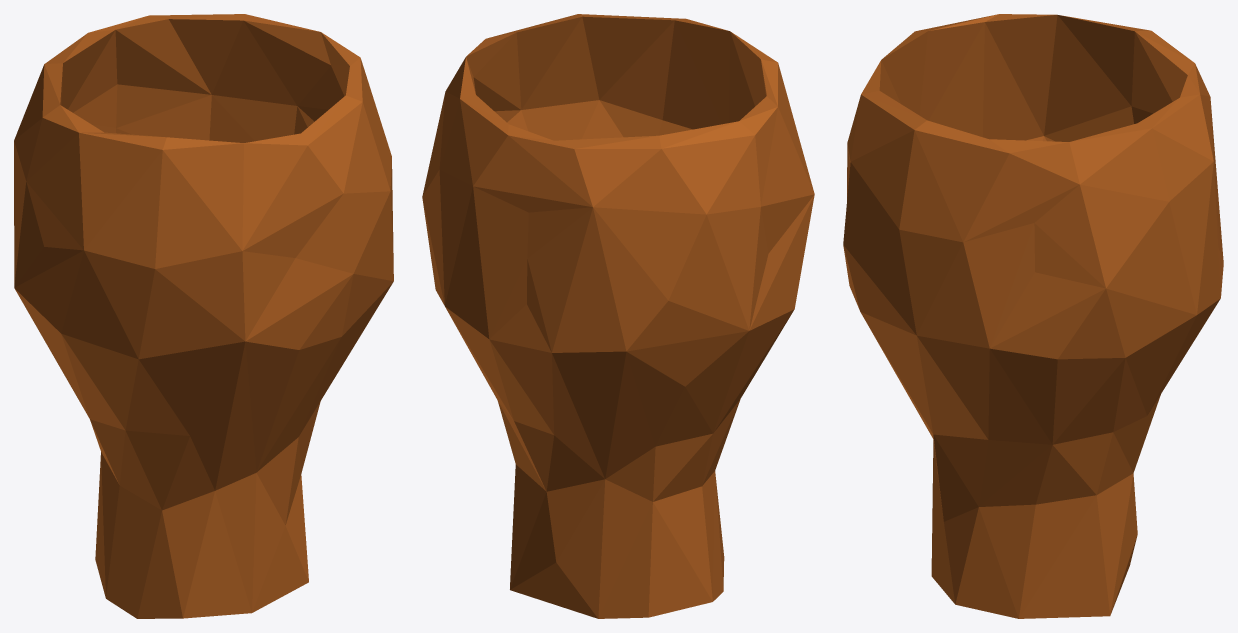
Rendered from SM_pottery_01.fbx.
The picture shows the model from 3 angles, left to right: view 1: azimuth 30°, elevation 25°; view 2: azimuth 150°, elevation 25°; view 3: azimuth 270°, elevation 25°; orthographic projection.
Parts seen in each view (by area): view 1: Group59143; view 2: Group59143; view 3: Group59143.
Part boxes in pixels (<box>): Group59143: <box>14,14,393,618</box>; Group59143: <box>422,14,814,618</box>; Group59143: <box>843,14,1223,618</box>.
Bounding box in the file's own units: 28.3 × 43.07 × 28.81.
